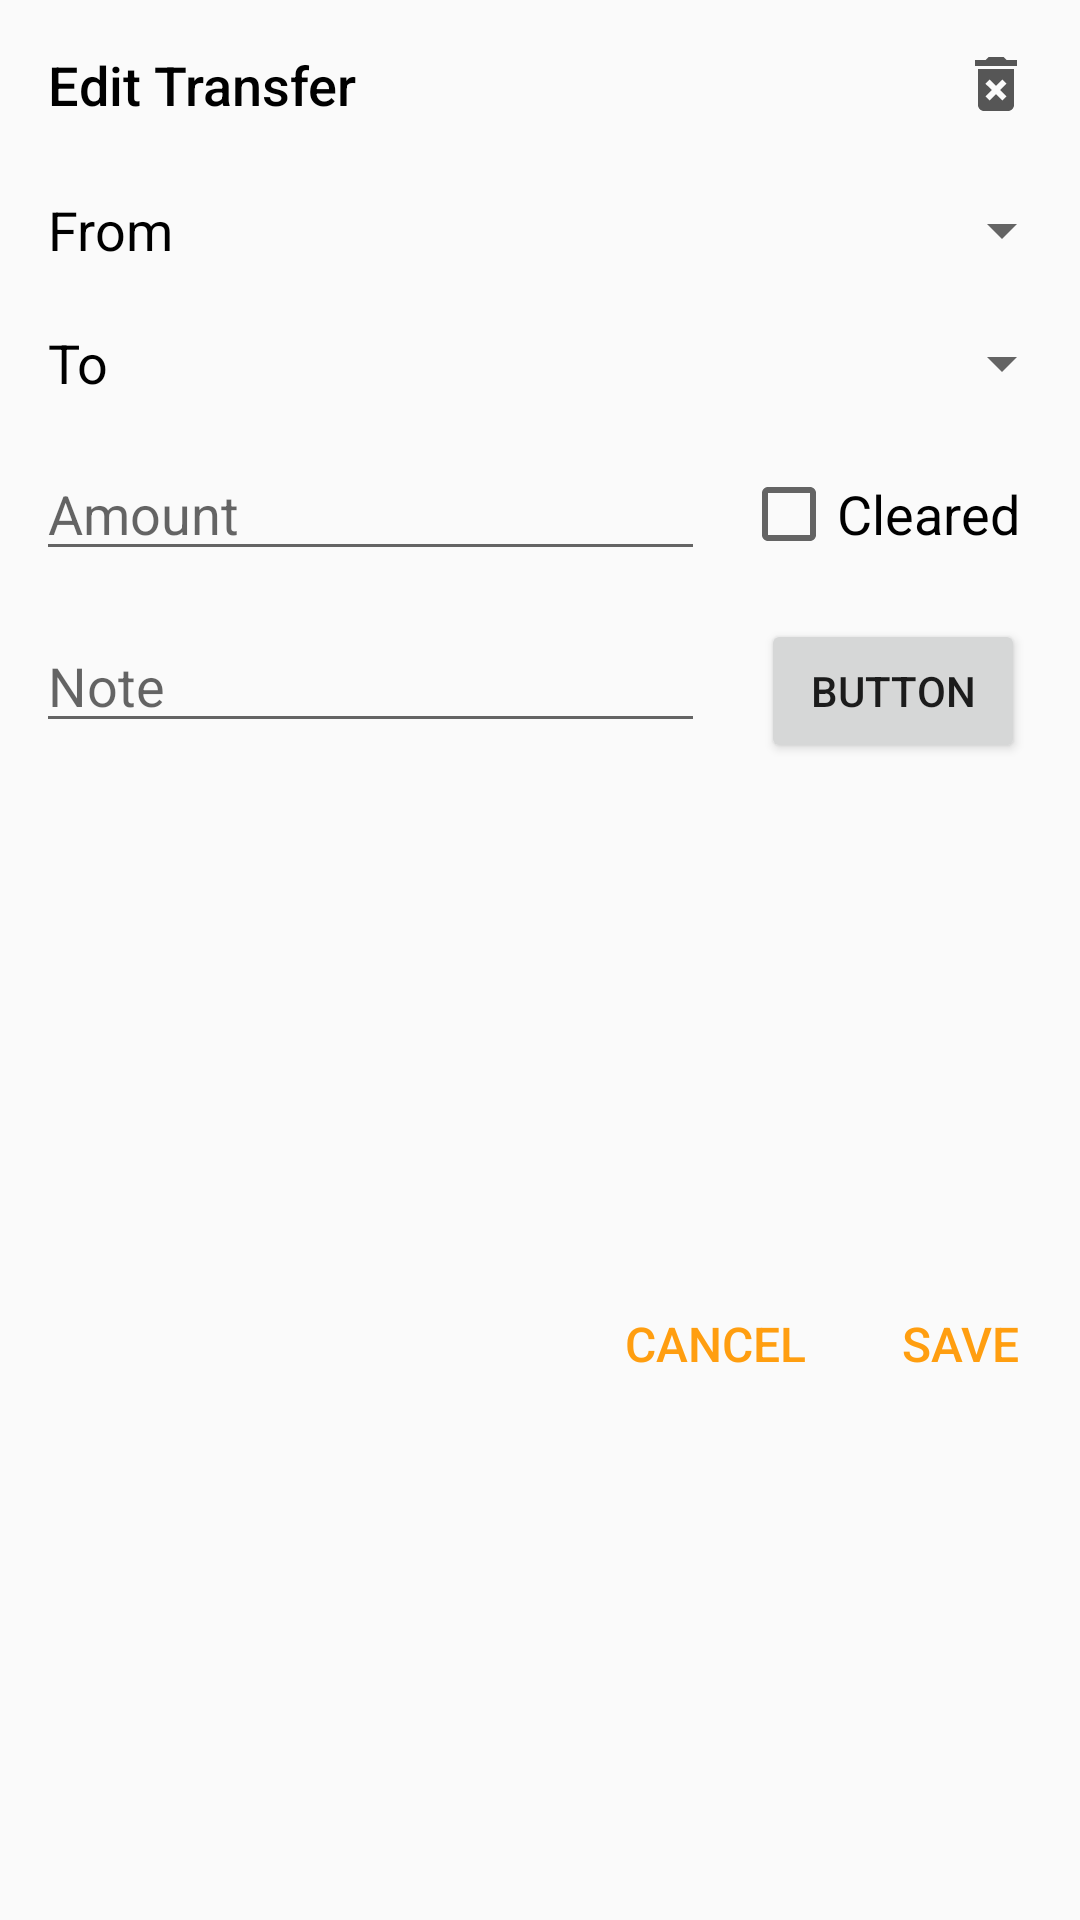

Icon bounding boxes for this 1080px×1920px phone screenshot, format (x1, y1, x2, y2):
Delete transfer: (975, 57, 1017, 111)
